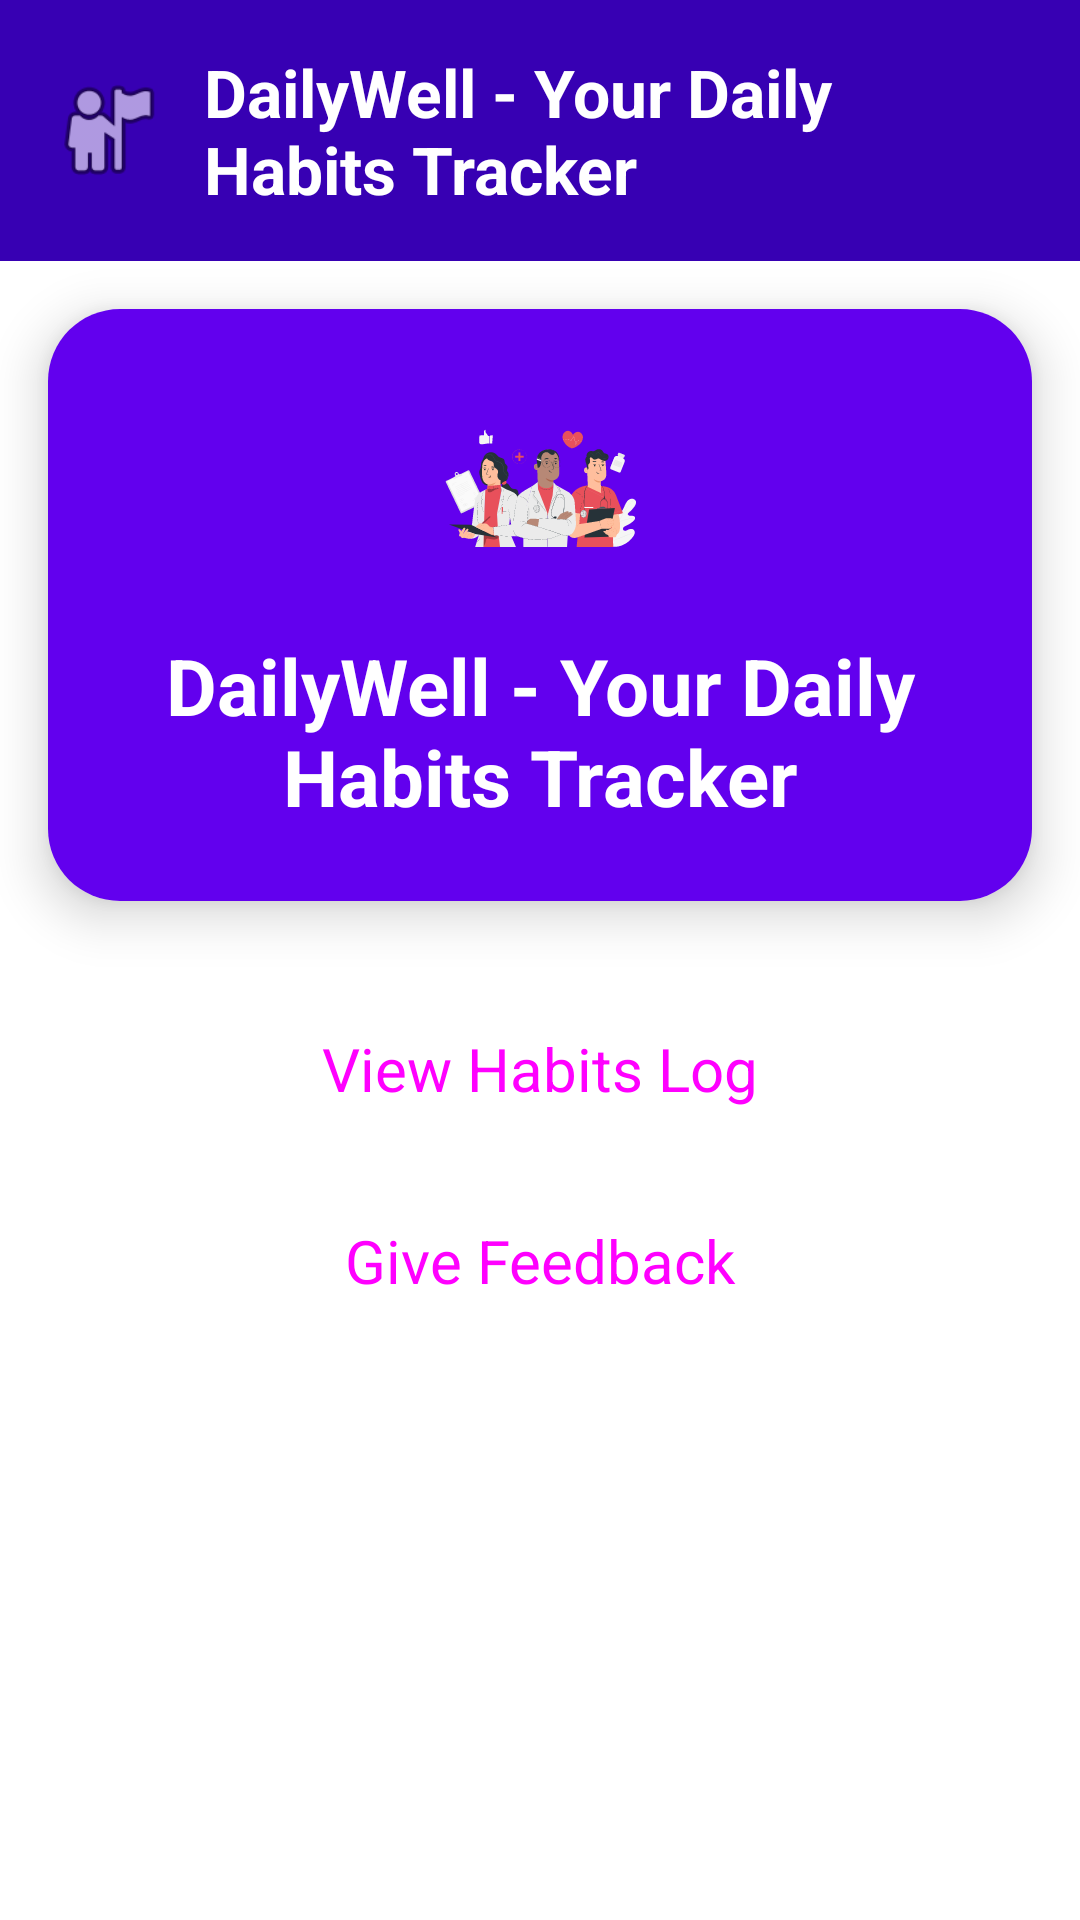

Named icons in this screenshot (1080 × 1920) and their centers, point (x, y):
App Icon: point (109, 130)
